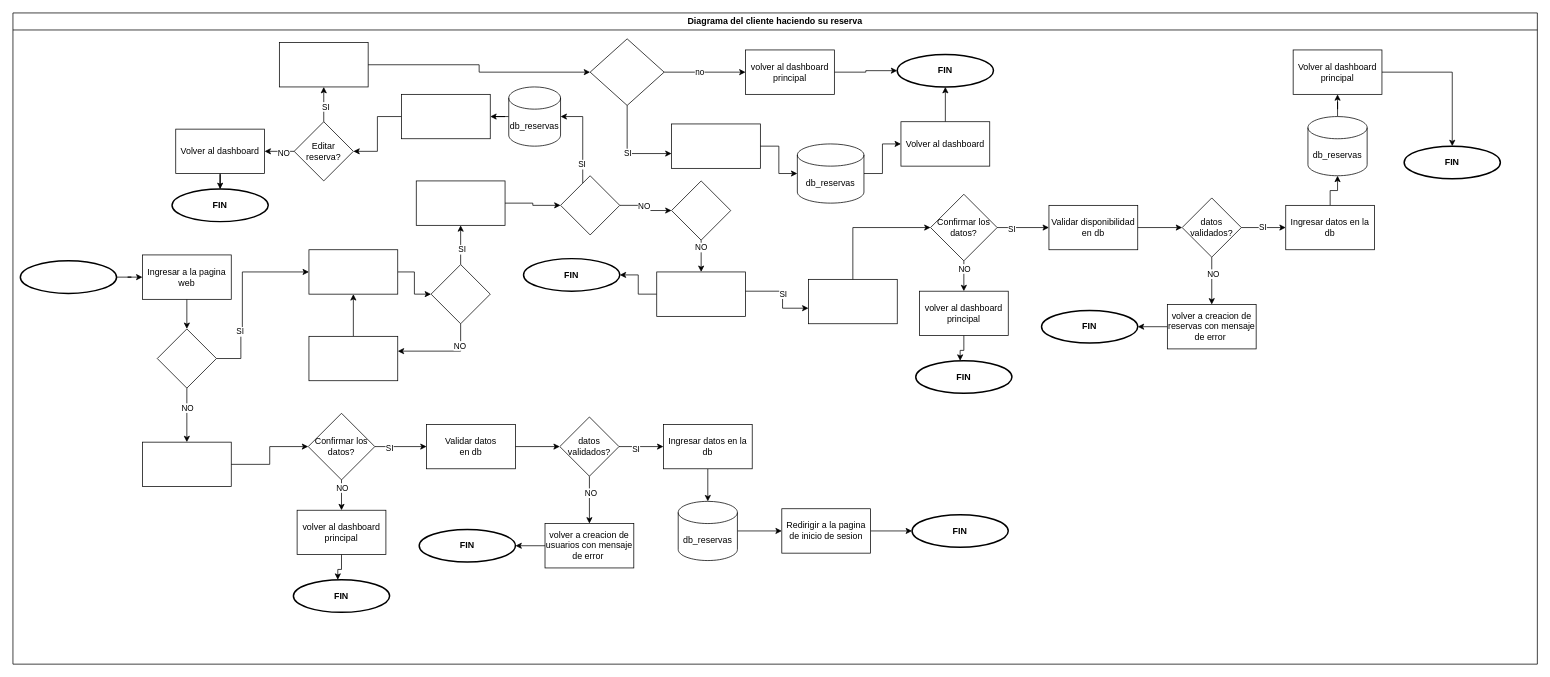
Some shapes in this 1550 by 677 pixel diagram are drawn without their labels. The shapes that lost their labels are listed below. From the top down, each one's centre as x and y in pixels, then its label:
At point 323,64: "Ingresar a modificacion de reserva".
At point 626,71: "Guardar modificaciones?".
At point 445,116: "Visualizar Reserva".
At point 715,145: "Guardar datos en la base de datos".
At point 460,202: "Ingresar Dashboard principal".
At point 590,205: "Tiene reserva?".
At point 701,210: "Crear nueva reserva?".
At point 68,277: "INICIO".
At point 353,271: "Iniciar Sesión".
At point 460,294: "Datoss validados?".
At point 701,293: "Vuelve al dashboard principal".
At point 852,301: "Ingresar al formulario de creacion de reservas".
At point 186,358: "Ya tienes un usuario?".
At point 353,358: "Corregir datos".
At point 186,464: "Dirigir a creacion de usuario".
